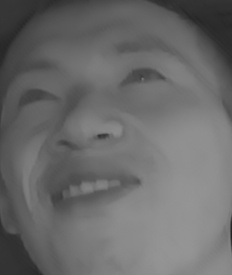eye: (116, 60, 166, 98), (7, 86, 60, 118)
mouth: (43, 161, 146, 218)
